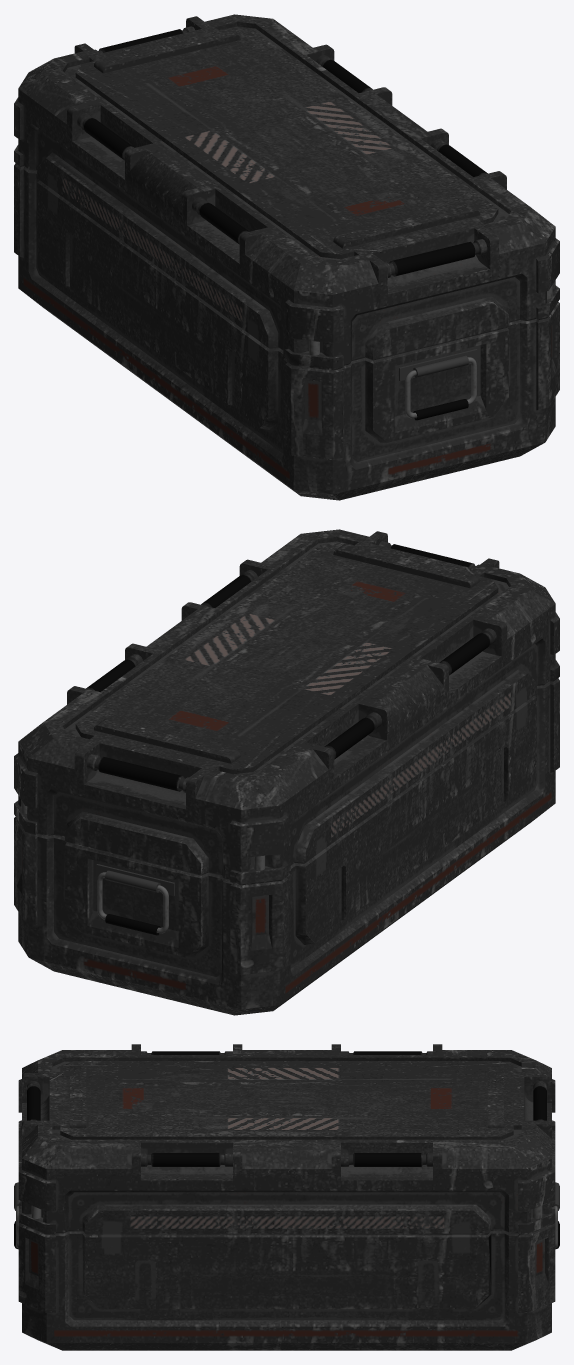
3 views of the same model, one above another, from view 1: azimuth 30°, elevation 25°; view 2: azimuth 150°, elevation 25°; view 3: azimuth 270°, elevation 25° (orthographic). The views are drawn at different scales.
Parts seen in each view (by area): view 1: Military Container; view 2: Military Container; view 3: Military Container.
Part boxes in pixels (bbox=[...]): Military Container: bbox=[14, 14, 559, 500]; Military Container: bbox=[14, 529, 559, 1015]; Military Container: bbox=[14, 1044, 559, 1350].
Size of the model in its own units: 205 by 174 by 414.
Materials: 1 (1 with a texture image).
